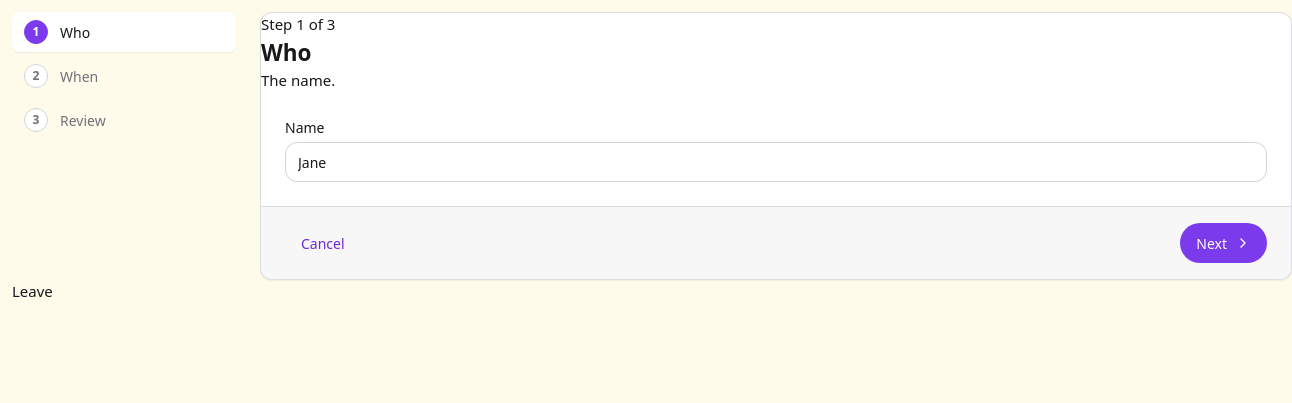
StepForm › validates rules across a step's fields
Click the button "Next" at (1224, 243), box [1180,223,1267,263]
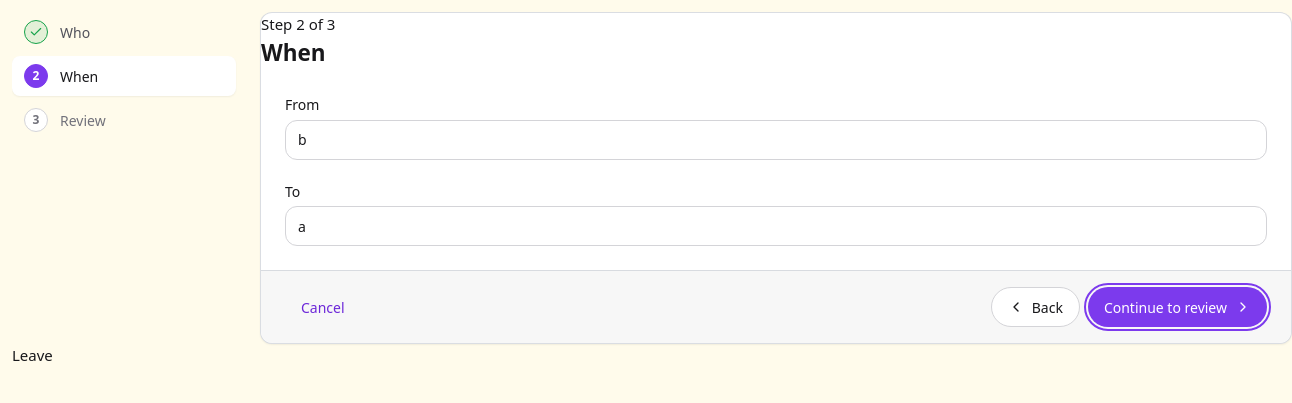
Click the button "Continue to review" at (1177, 307), box [1088,287,1267,327]
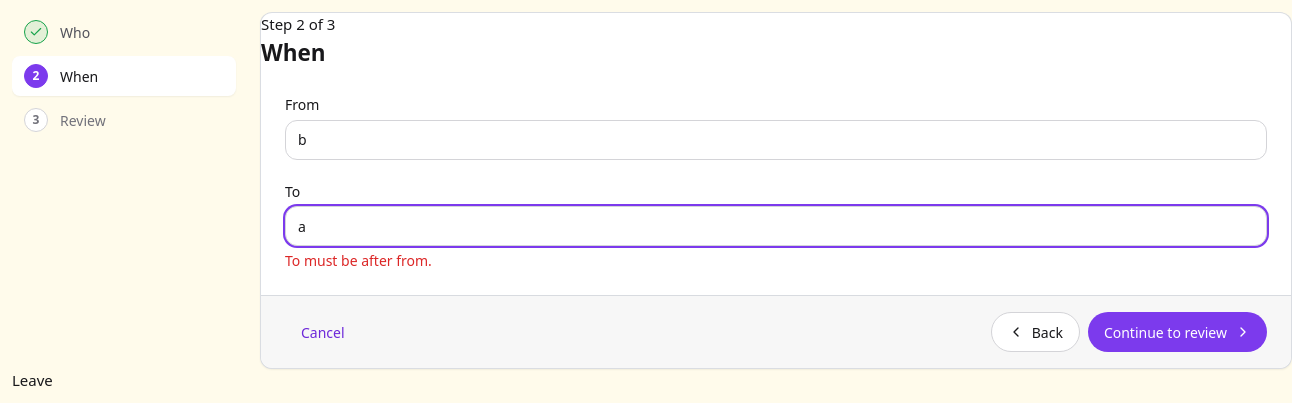
Now the heading "When" is shown, box [261,36,326,68]
Now the text "To must be after from." is shown, box [285,251,432,270]
